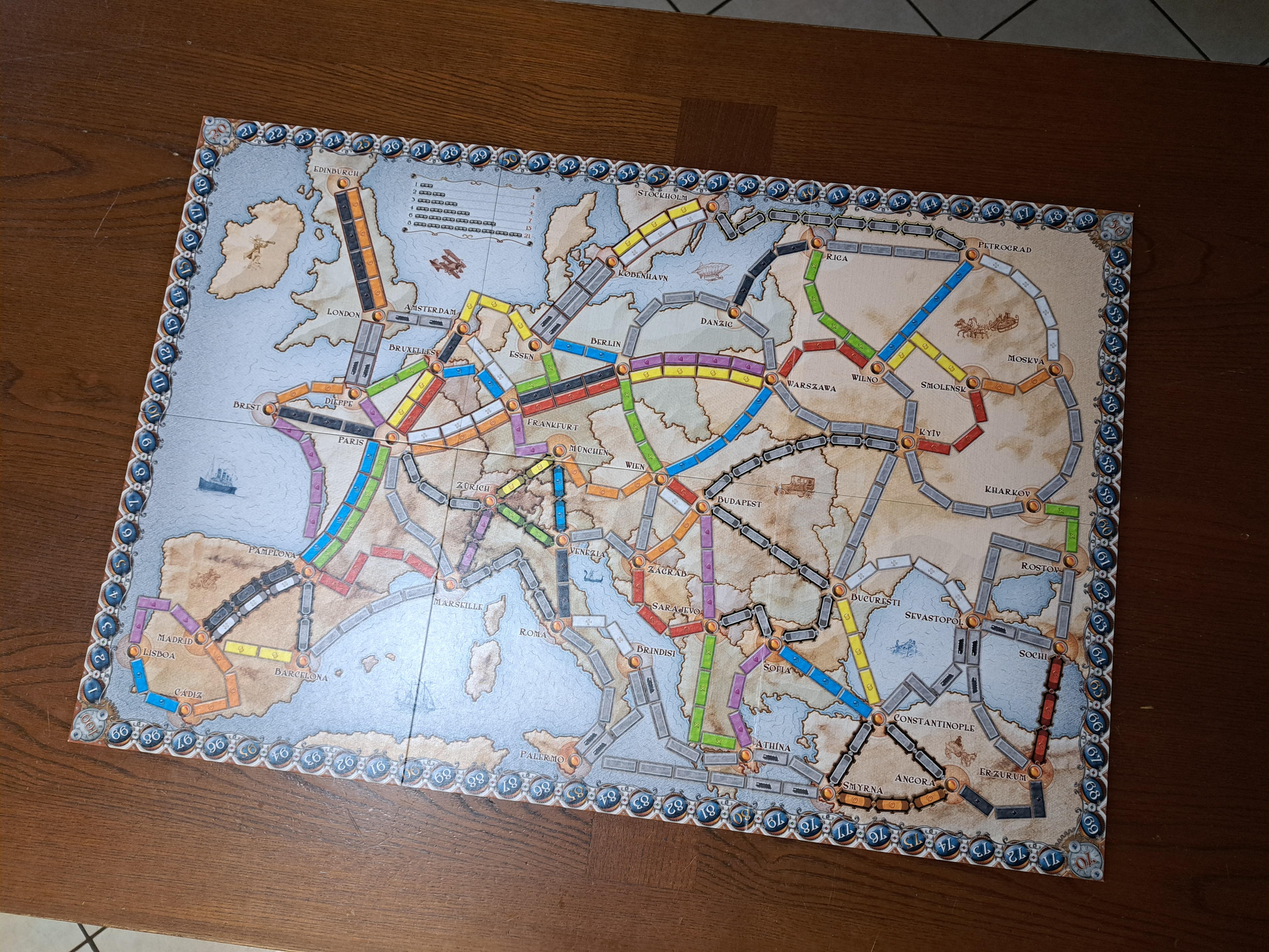corner_bl: (67, 704, 110, 746)
corner_br: (1064, 838, 1105, 882)
corner_tl: (197, 115, 236, 149)
corner_tr: (1096, 210, 1133, 247)
